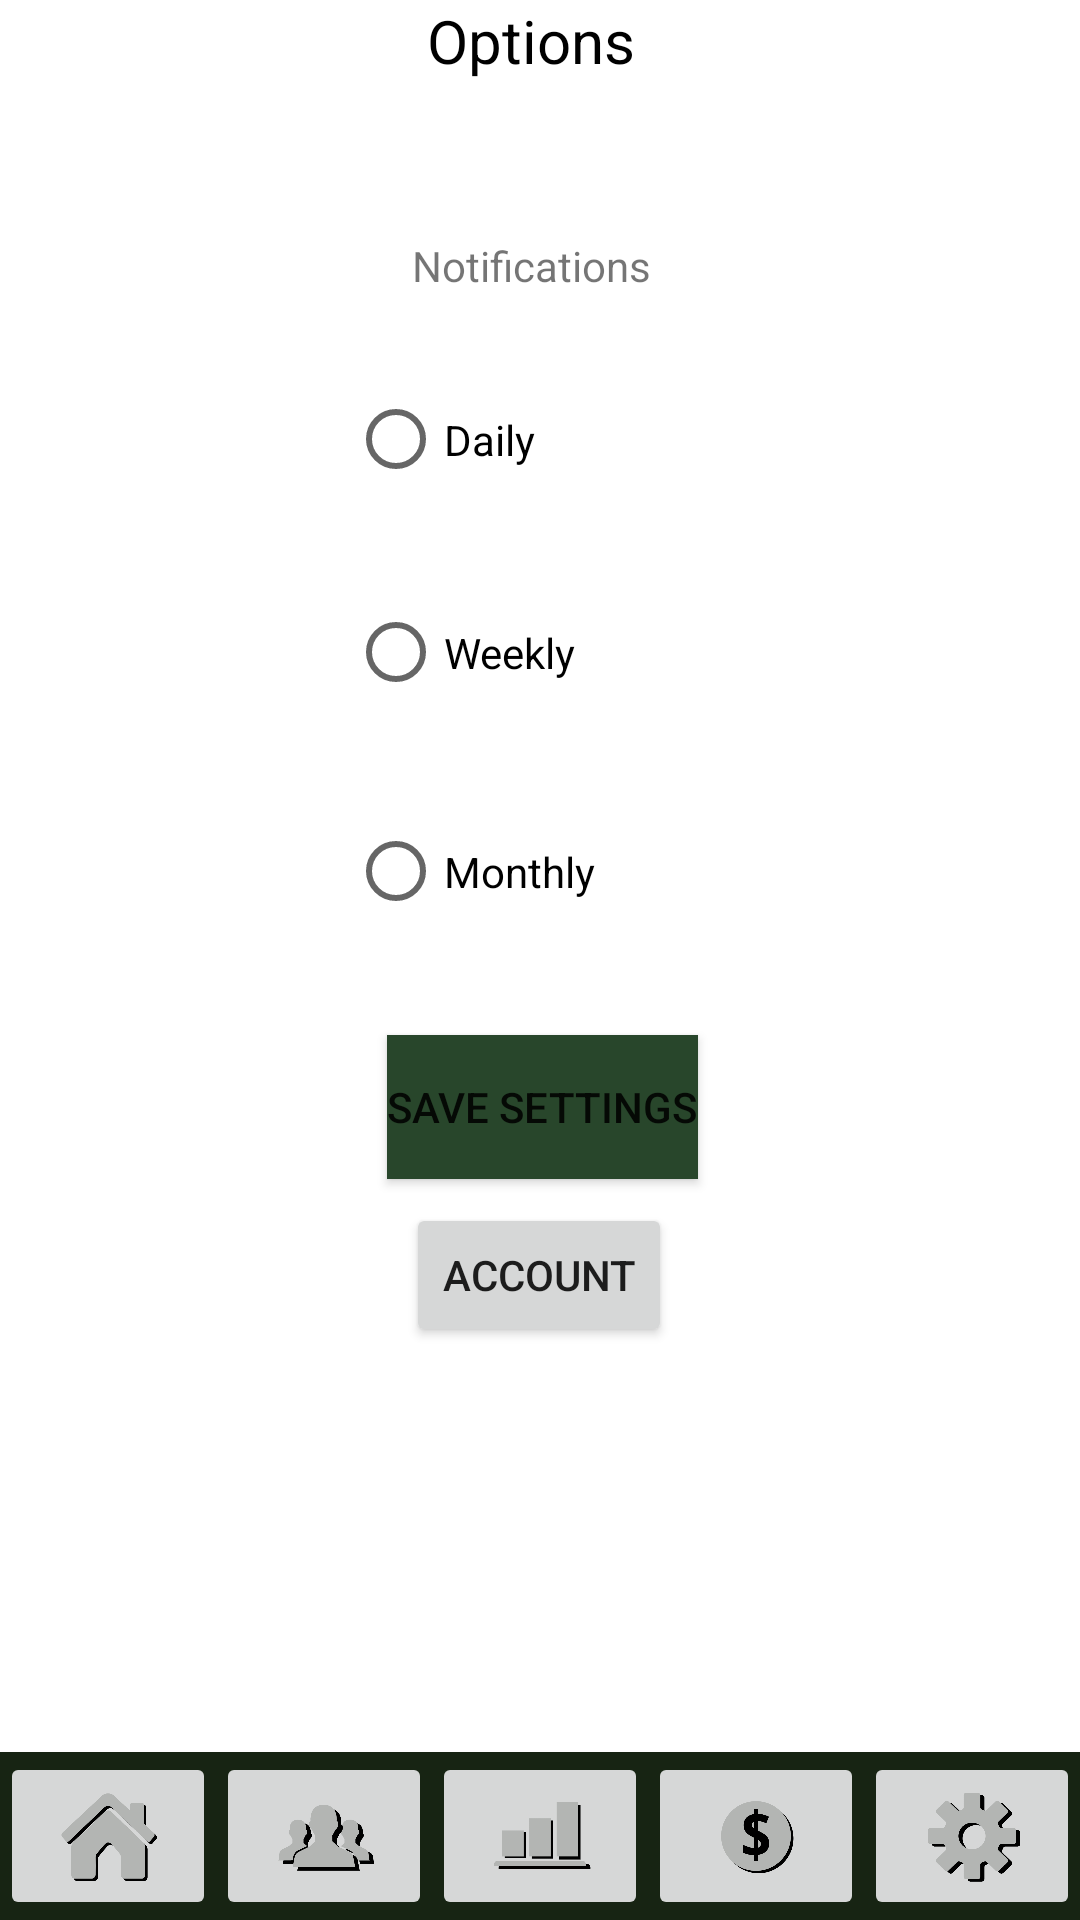

Locate icon controls on the screen. Image size 1080*1920, boxes as (x1, y1, x2, y2).
expensebutton: (660, 1770, 852, 1902)
groupbutton: (228, 1770, 420, 1902)
homebutton: (12, 1770, 204, 1902)
reportbutton: (444, 1770, 636, 1902)
settingsbutton: (876, 1770, 1068, 1902)
